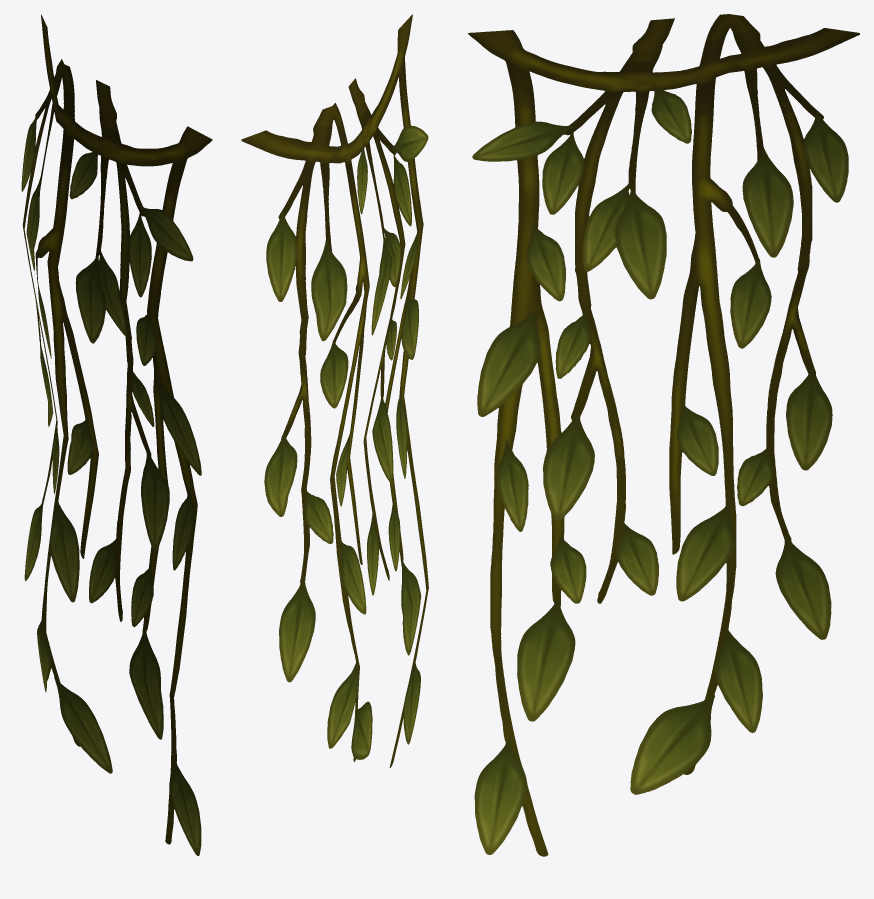
Rendered from Vine #1.fbx.
The picture shows the model from 3 angles, left to right: view 1: azimuth 30°, elevation 25°; view 2: azimuth 150°, elevation 25°; view 3: azimuth 270°, elevation 25°; orthographic projection. The views are drawn at different scales.
Visible parts, largest first — view 1: Vine #1; view 2: Vine #1; view 3: Vine #1.
Part boxes in pixels (x1=…): Vine #1: x1=21, y1=14, x2=212, y2=855; Vine #1: x1=241, y1=14, x2=428, y2=767; Vine #1: x1=468, y1=14, x2=859, y2=856.
Size of the model in its own units: 20.53 by 240 by 100.
Materials: 1 (1 with a texture image).
